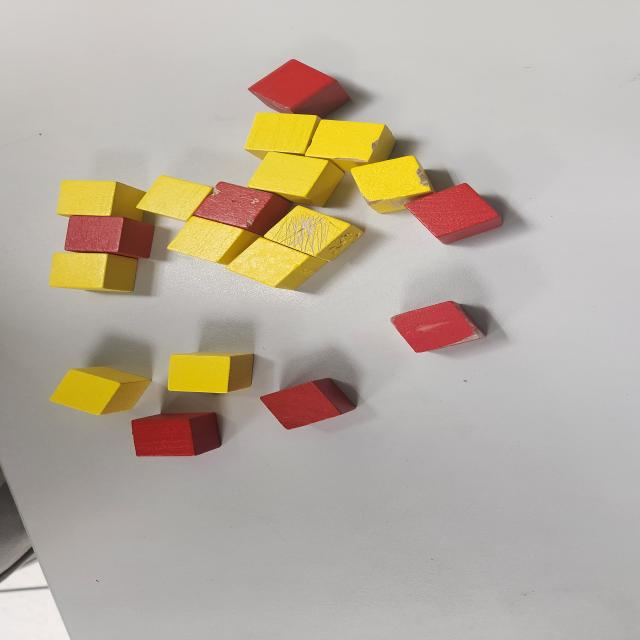broken: (261, 205, 365, 262), (192, 181, 295, 236), (389, 300, 487, 354), (351, 154, 436, 212), (305, 119, 397, 172), (243, 112, 324, 160)
red: (404, 182, 504, 244), (247, 58, 352, 117), (260, 377, 356, 429), (131, 412, 223, 457), (64, 215, 156, 260)
yellow: (224, 236, 328, 290), (248, 150, 344, 207), (50, 364, 152, 416), (165, 216, 260, 266), (48, 251, 138, 292), (55, 180, 147, 220), (136, 175, 213, 222), (165, 354, 255, 394)
